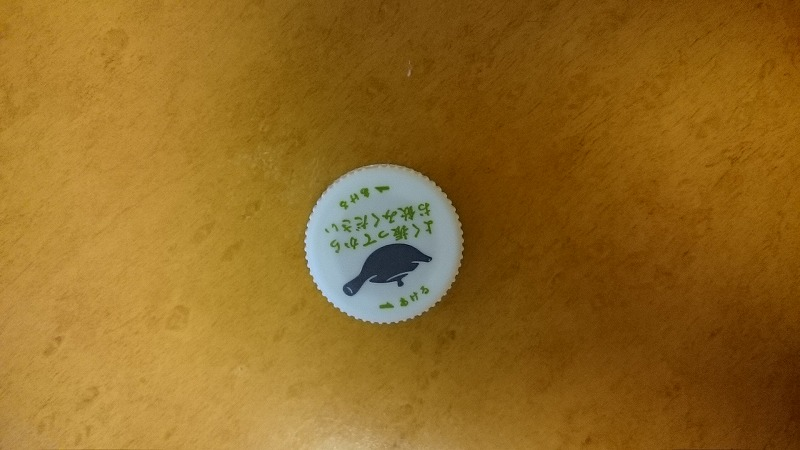A: (295, 159, 475, 330)
